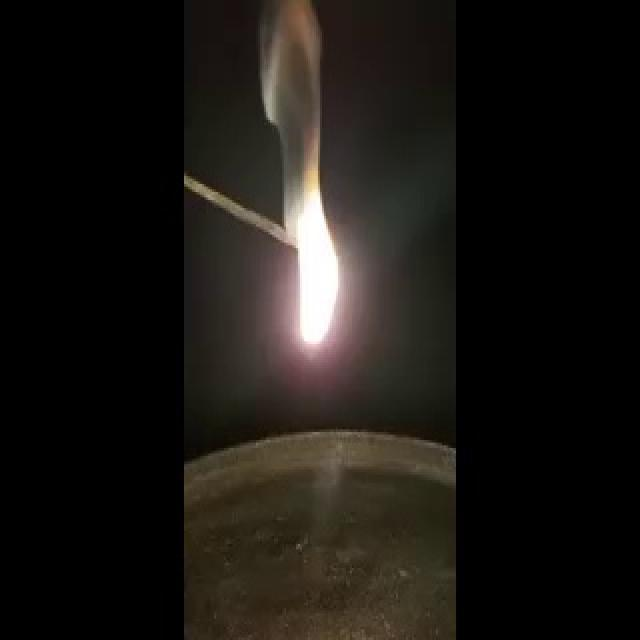fire: (272, 113, 354, 374)
